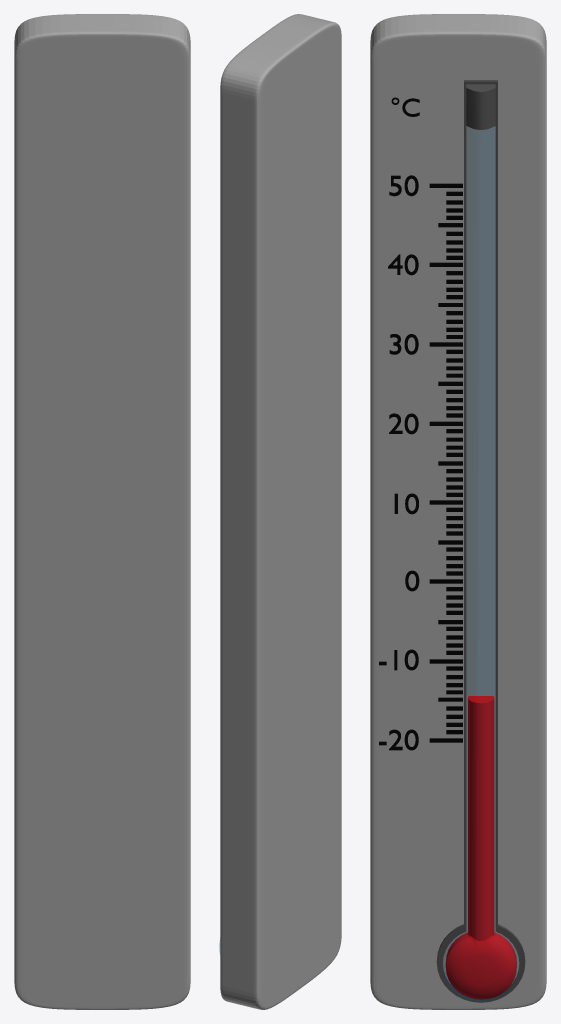
The model's file is термометр 1.fbx.
3 renders of one model, left to right at view 1: azimuth 90°, elevation 25°; view 2: azimuth 150°, elevation 25°; view 3: azimuth 270°, elevation 25°, orthographic. The views are drawn at different scales.
Visible parts, largest first — view 1: Cube; view 2: Cube; view 3: Cube, Circle, Cube.006, Cylinder, Cylinder.001, Cylinder.002.
Boxes of the visible parts, <box> form: Cube: <box>14,14,190,1009</box>; Cube: <box>220,14,341,1009</box>; Cube: <box>370,14,546,1009</box>; Circle: <box>436,80,525,1002</box>; Cube.006: <box>429,183,462,742</box>; Cylinder: <box>468,742,494,940</box>; Cylinder.001: <box>445,932,516,999</box>; Cylinder.002: <box>468,696,494,799</box>.
Size of the model in its own units: 28.28 by 443 by 72.42.
